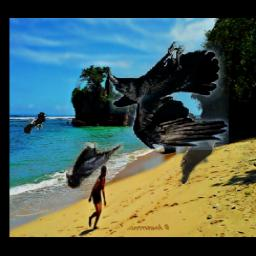Crow: (109, 42, 229, 151), (65, 143, 123, 190), (24, 113, 47, 134)
Cuckoo: (179, 134, 226, 184)
